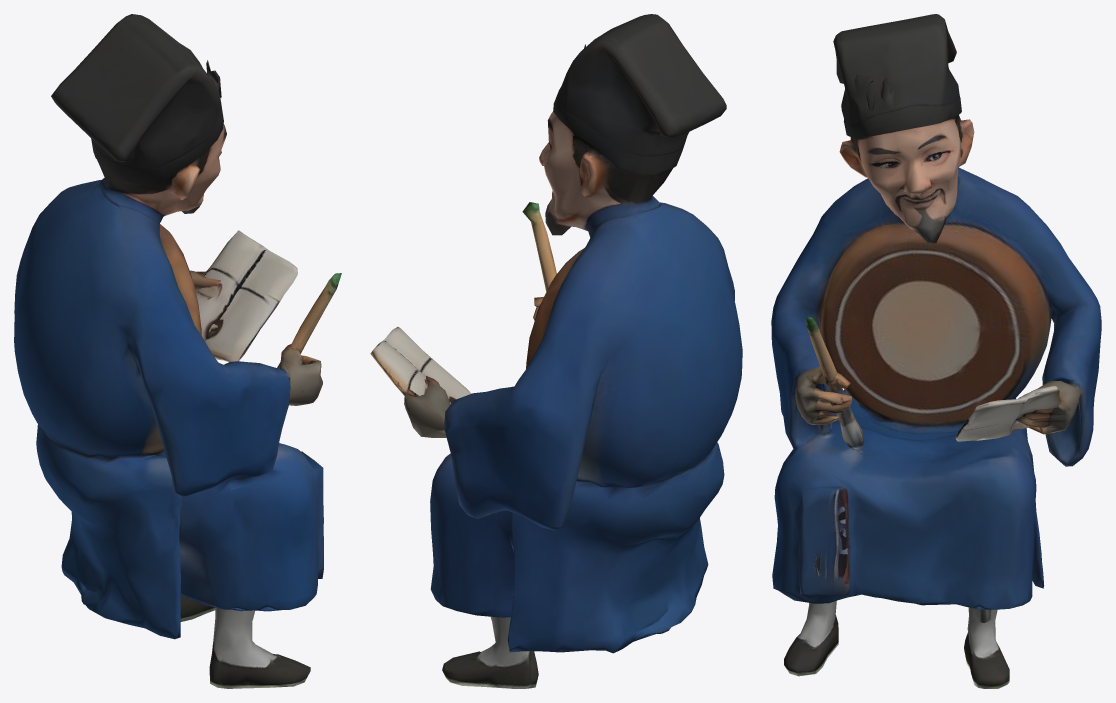
Rendered from n_daishu.glb.
3 views of the same model, side by side, from view 1: azimuth 30°, elevation 25°; view 2: azimuth 150°, elevation 25°; view 3: azimuth 270°, elevation 25° (orthographic). The views are drawn at different scales.
Visible parts, largest first — view 1: tripo_node_916d6a7e-0949-46e4-a4a8-0657ff3f98f7; view 2: tripo_node_916d6a7e-0949-46e4-a4a8-0657ff3f98f7; view 3: tripo_node_916d6a7e-0949-46e4-a4a8-0657ff3f98f7.
Part boxes in pixels (left/top/right/bottom): tripo_node_916d6a7e-0949-46e4-a4a8-0657ff3f98f7: left=14, top=14, right=341, bottom=688; tripo_node_916d6a7e-0949-46e4-a4a8-0657ff3f98f7: left=370, top=14, right=742, bottom=688; tripo_node_916d6a7e-0949-46e4-a4a8-0657ff3f98f7: left=771, top=14, right=1101, bottom=688.
Bounding box in the file's own units: 0.4774 × 0.9995 × 0.4884.
1 material, 1 textured.
